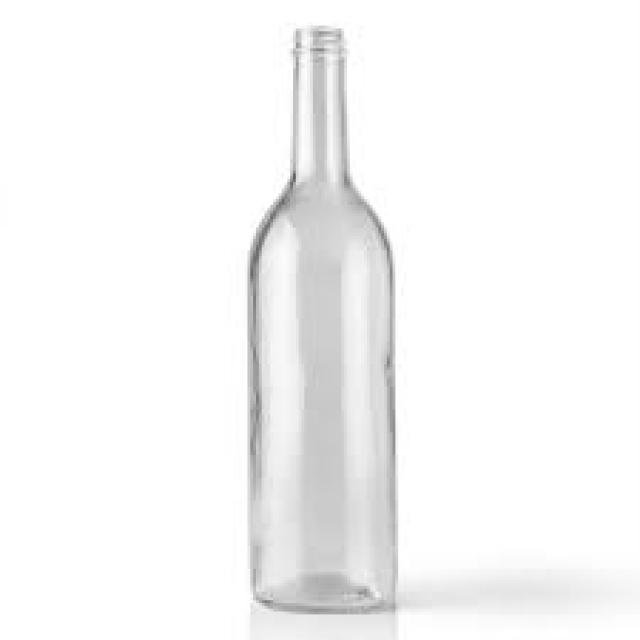Glass-Non-Biodegradable but Recyclable-: (246, 25, 394, 617)
